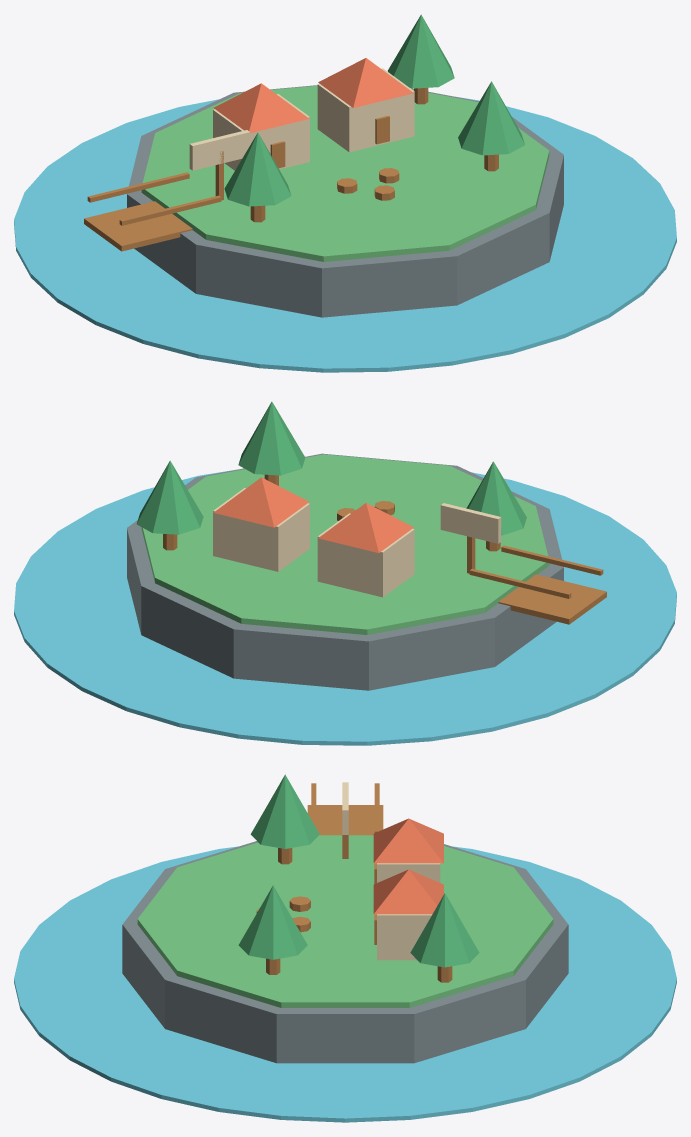
Rendered from isla-acuerdos-blockout.glb.
3 renders of one model, top to bottom at view 1: azimuth 30°, elevation 25°; view 2: azimuth 150°, elevation 25°; view 3: azimuth 270°, elevation 25°, orthographic.
Parts seen in each view (by area): view 1: Water_Plate, Island_Grass, Island_Rock, House_2_Body, Tree_2_Crown, Tree_1_Crown, Tree_3_Crown, House_2_Roof, House_1_Roof, House_1_Body, Sign_Board, Bridge_Plank_00 (+5 smaller); view 2: Water_Plate, Island_Grass, Island_Rock, House_1_Body, House_2_Body, Tree_2_Crown, Tree_3_Crown, House_2_Roof, House_1_Roof, Tree_1_Crown, Sign_Board, Bridge_Plank_00 (+5 smaller); view 3: Water_Plate, Island_Grass, Island_Rock, Tree_2_Crown, Tree_3_Crown, Tree_1_Crown, House_1_Roof, House_2_Roof, House_2_Body, House_1_Body.
Boxes of the visible parts, x1,y1,x2,y2 form: Water_Plate: [14, 97, 676, 372]; Island_Grass: [141, 85, 549, 261]; Island_Rock: [127, 85, 563, 317]; House_2_Body: [317, 68, 414, 152]; Tree_2_Crown: [458, 81, 524, 155]; Tree_1_Crown: [224, 133, 291, 206]; Tree_3_Crown: [387, 14, 454, 88]; House_2_Roof: [318, 58, 413, 107]; House_1_Roof: [214, 83, 309, 132]; House_1_Body: [213, 94, 309, 170]; Sign_Board: [189, 130, 250, 170]; Bridge_Plank_00: [84, 215, 136, 251]; Water_Plate: [14, 469, 676, 745]; Island_Grass: [141, 454, 549, 634]; Island_Rock: [127, 453, 563, 690]; House_1_Body: [317, 513, 414, 597]; House_2_Body: [213, 488, 309, 571]; Tree_2_Crown: [238, 401, 305, 475]; Tree_3_Crown: [136, 460, 203, 534]; House_2_Roof: [213, 477, 308, 527]; House_1_Roof: [318, 503, 413, 552]; Tree_1_Crown: [466, 461, 526, 535]; Sign_Board: [440, 503, 501, 543]; Bridge_Plank_00: [554, 588, 606, 624]; Water_Plate: [14, 846, 676, 1122]; Island_Grass: [137, 835, 553, 1007]; Island_Rock: [122, 841, 568, 1063]; Tree_2_Crown: [238, 885, 307, 959]; Tree_3_Crown: [410, 893, 479, 967]; Tree_1_Crown: [250, 774, 319, 848]; House_1_Roof: [373, 818, 443, 863]; House_2_Roof: [373, 869, 443, 914]; House_2_Body: [377, 914, 432, 960]; House_1_Body: [377, 863, 440, 882].
Bounding box in the file's own units: 22 × 5.52 × 22.
